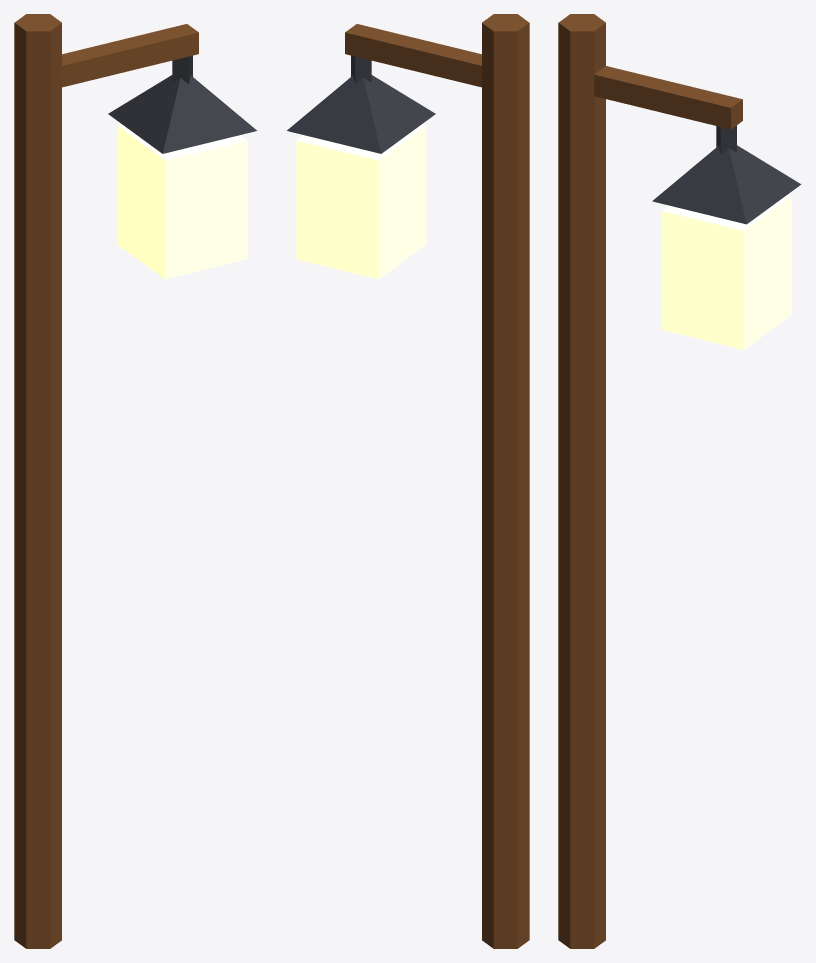
Rendered from swamp_lantern.fbx.
3 renders of one model, left to right at view 1: azimuth 30°, elevation 25°; view 2: azimuth 150°, elevation 25°; view 3: azimuth 330°, elevation 25°, orthographic.
Parts seen in each view (by area): view 1: swamp_lantern; view 2: swamp_lantern; view 3: swamp_lantern.
Part boxes in pixels (box(x1,y1,x2,y2)): swamp_lantern: box(14, 14, 256, 948); swamp_lantern: box(287, 14, 529, 948); swamp_lantern: box(558, 14, 800, 948).
Size of the model in its own units: 0.4066 by 1.7 by 0.1838.
